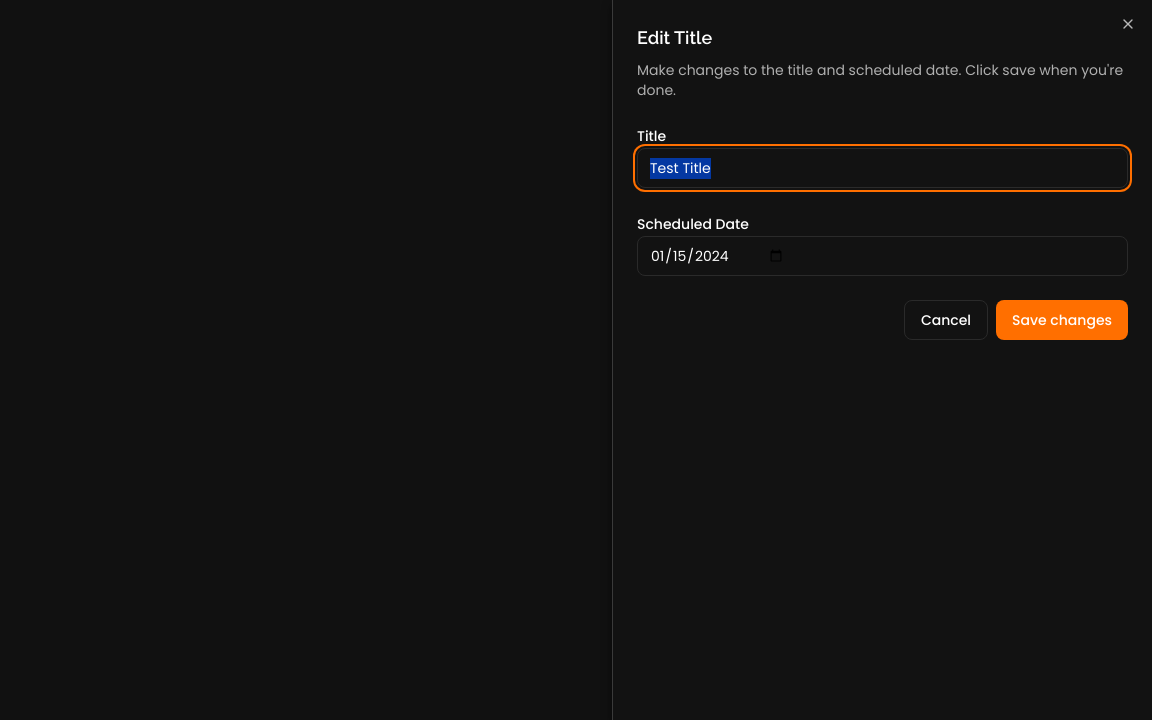
Test case: EditTitleSheet › disables buttons while submitting
Click the button "Save changes": (1062,320) [996,300,1128,340]
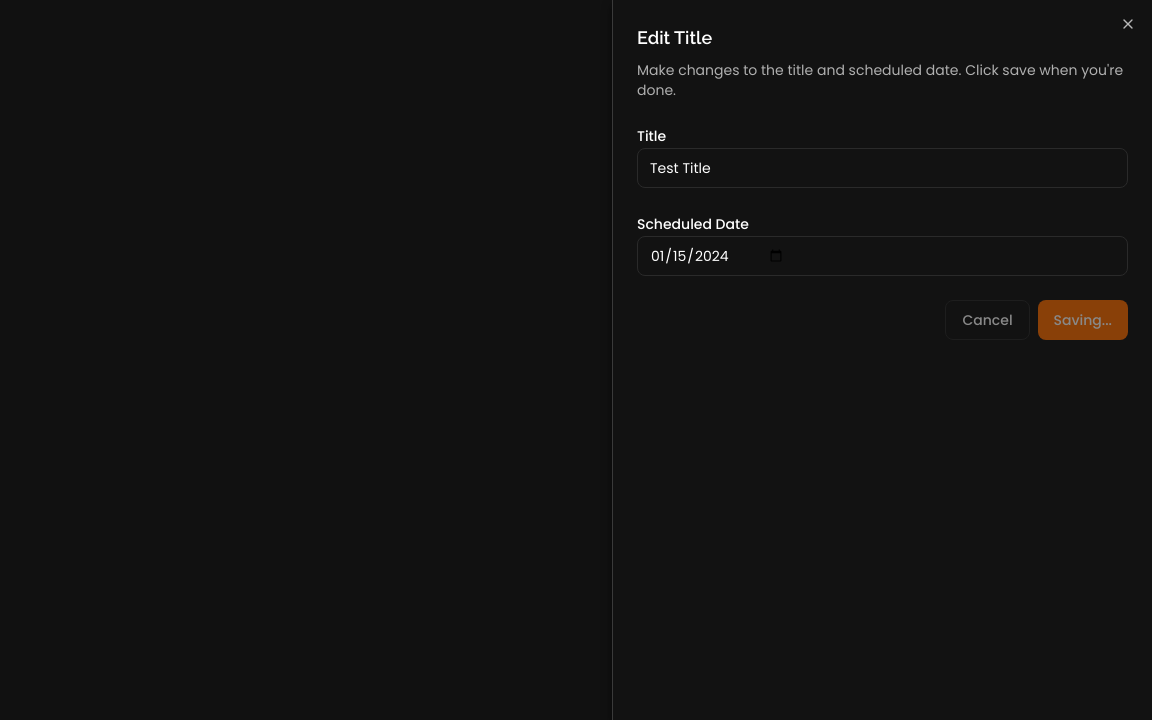
Check: the button "Saving..." is disabled, box [1038,300,1128,340]
Check: the button "Cancel" is disabled, box [945,300,1030,340]
